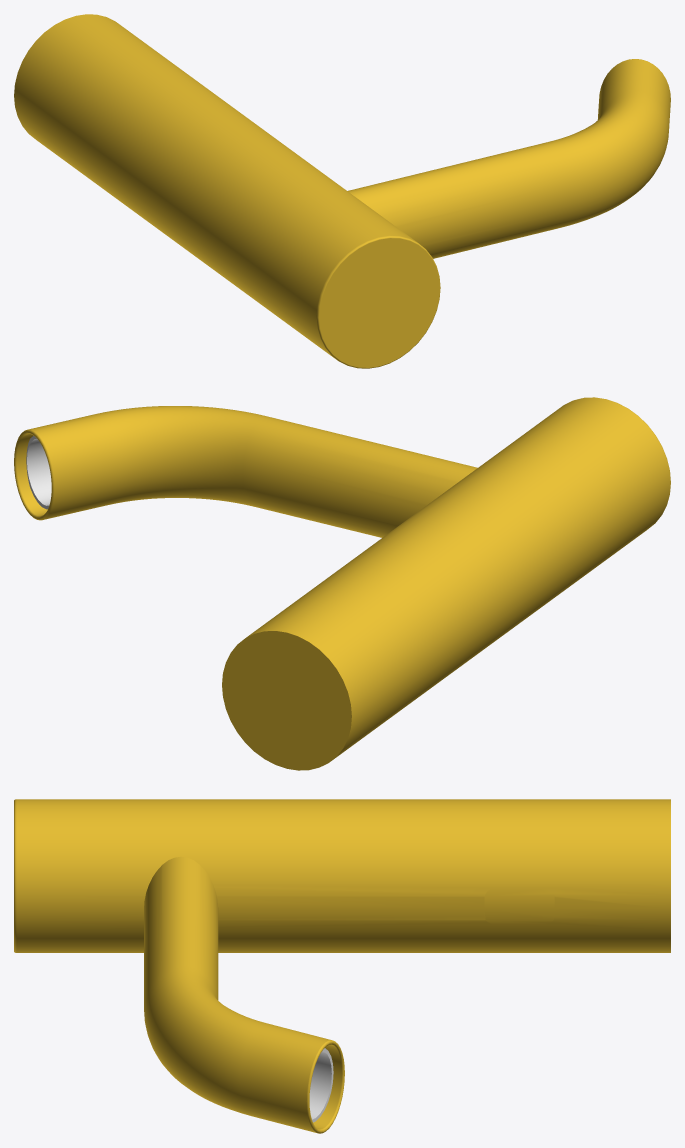
File: water  tab.gltf
The picture shows the model from 3 angles, top to bottom: view 1: azimuth 30°, elevation 25°; view 2: azimuth 150°, elevation 25°; view 3: azimuth 270°, elevation 25°; orthographic projection. The views are drawn at different scales.
Parts seen in each view (by area): view 1: 3DGeom-37, 3DGeom-38; view 2: 3DGeom-37, 3DGeom-38, 3DGeom-39; view 3: 3DGeom-37, 3DGeom-38, 3DGeom-39.
Boxes of the visible parts, x1,y1,x2,y2 form: 3DGeom-37: [14, 14, 440, 368]; 3DGeom-38: [347, 59, 670, 258]; 3DGeom-37: [222, 397, 670, 770]; 3DGeom-38: [14, 406, 477, 537]; 3DGeom-39: [26, 435, 51, 509]; 3DGeom-37: [14, 799, 670, 952]; 3DGeom-38: [144, 856, 344, 1133]; 3DGeom-39: [309, 1048, 333, 1122].
Size of the model in its own units: 0.1928 by 0.0488 by 0.2076.
